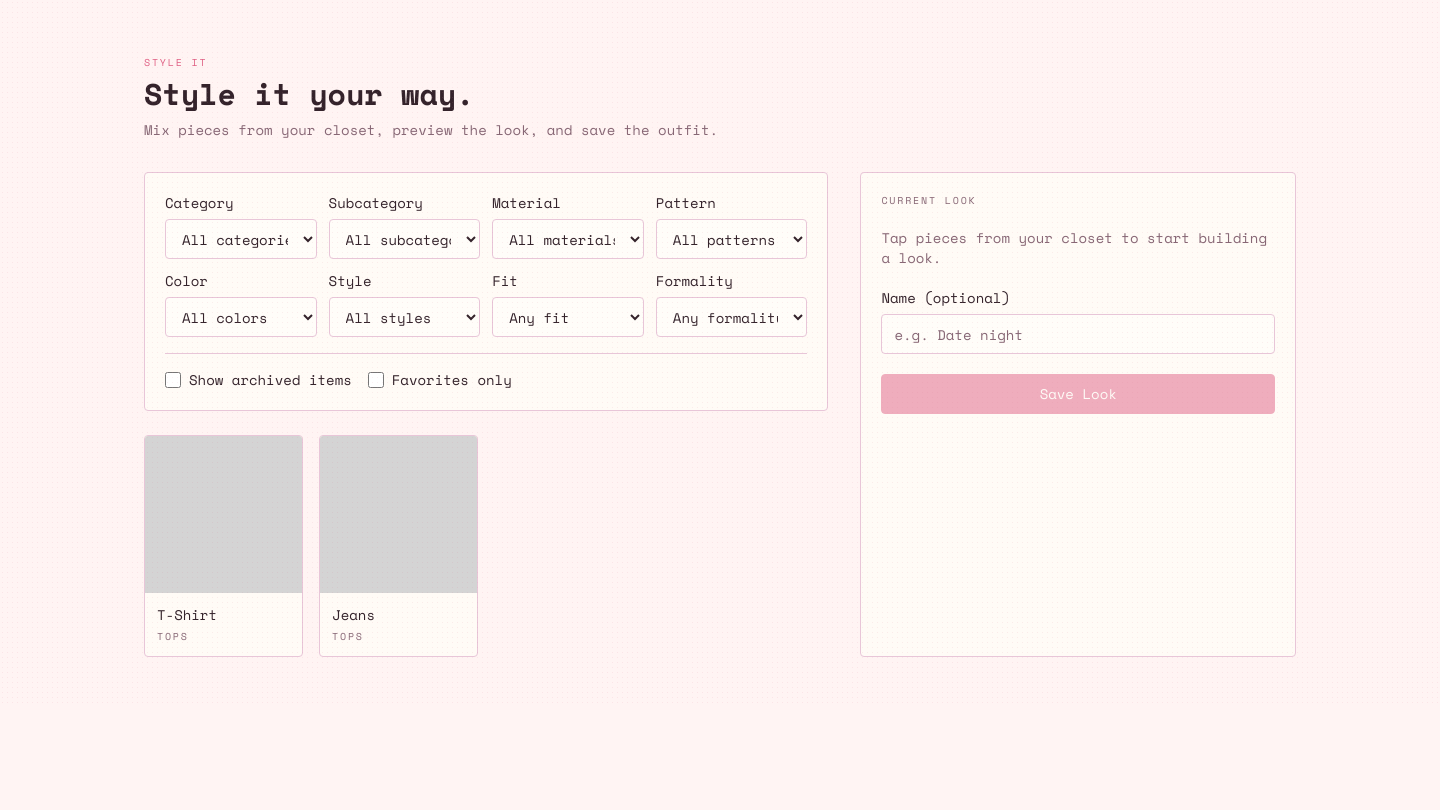
StyleItPage › selects two items, fetches the live preview, and saves the look
Click the button "T-Shirt Tops" at x=224, y=546, box [144,435,303,657]
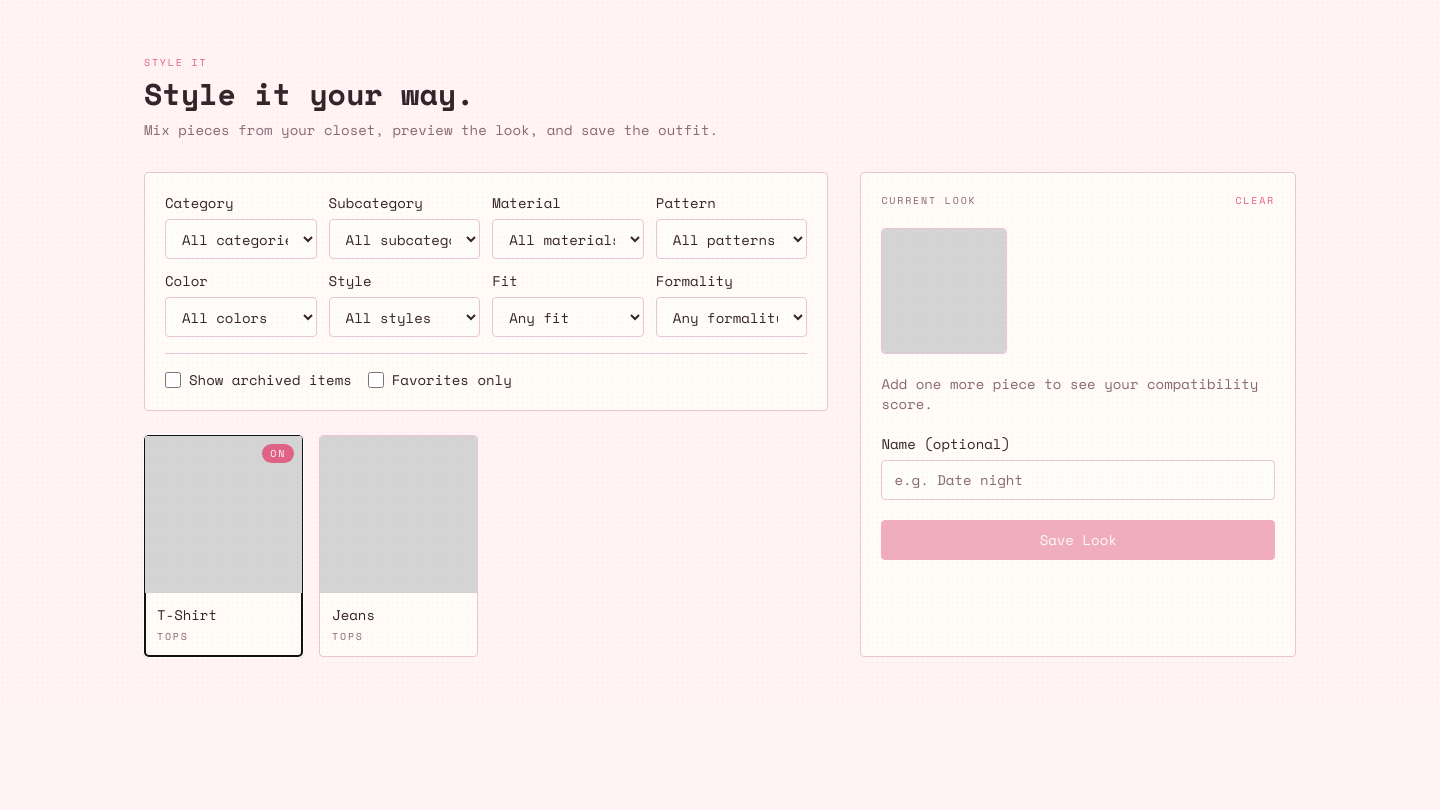
Click the button "Jeans Tops" at x=399, y=546, box [319,435,478,657]
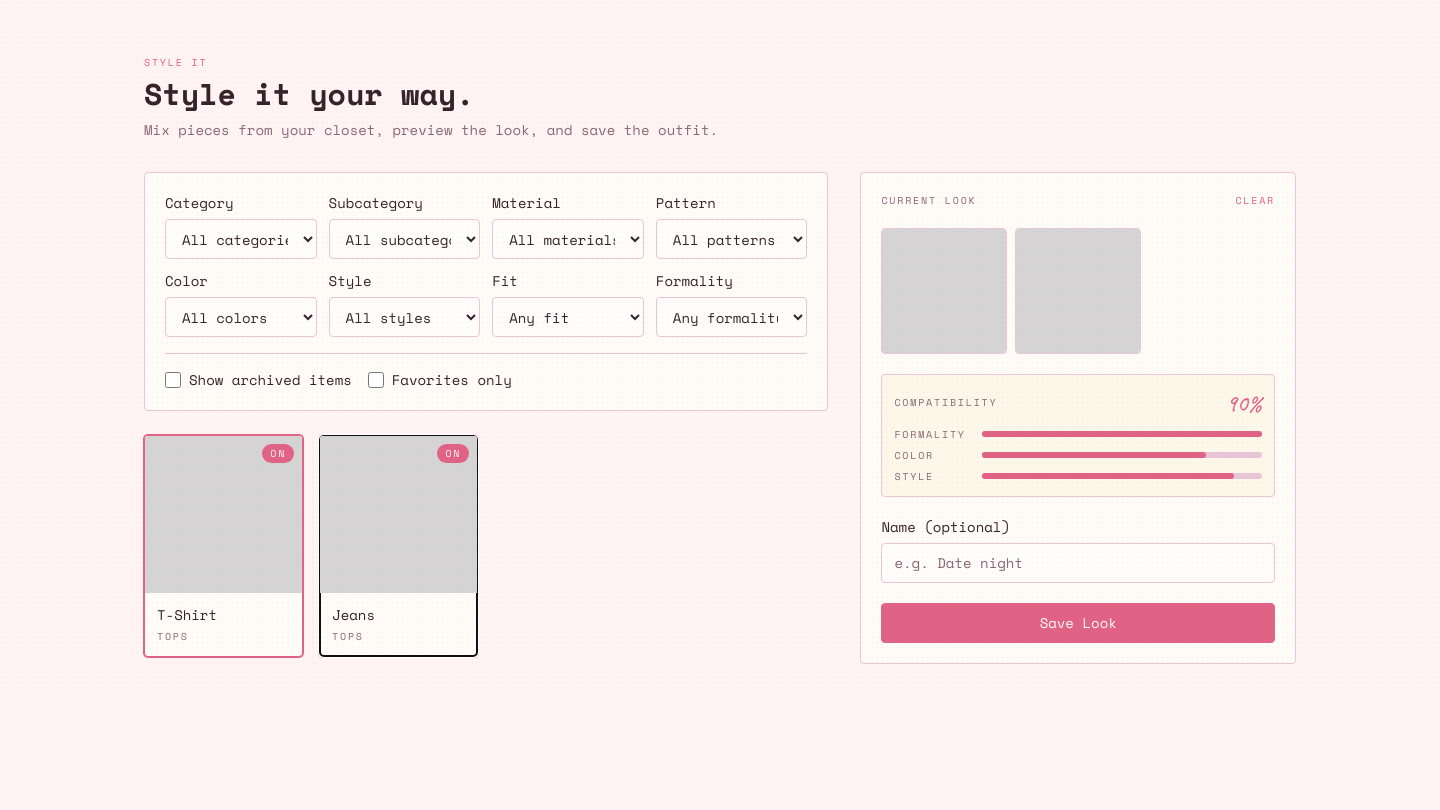
Check: the text "90%" is shown, box [1226,387,1262,419]
Check: the button "Save Look" is enabled
Click the button "Save Look" at x=1078, y=623, box [881,603,1275,643]
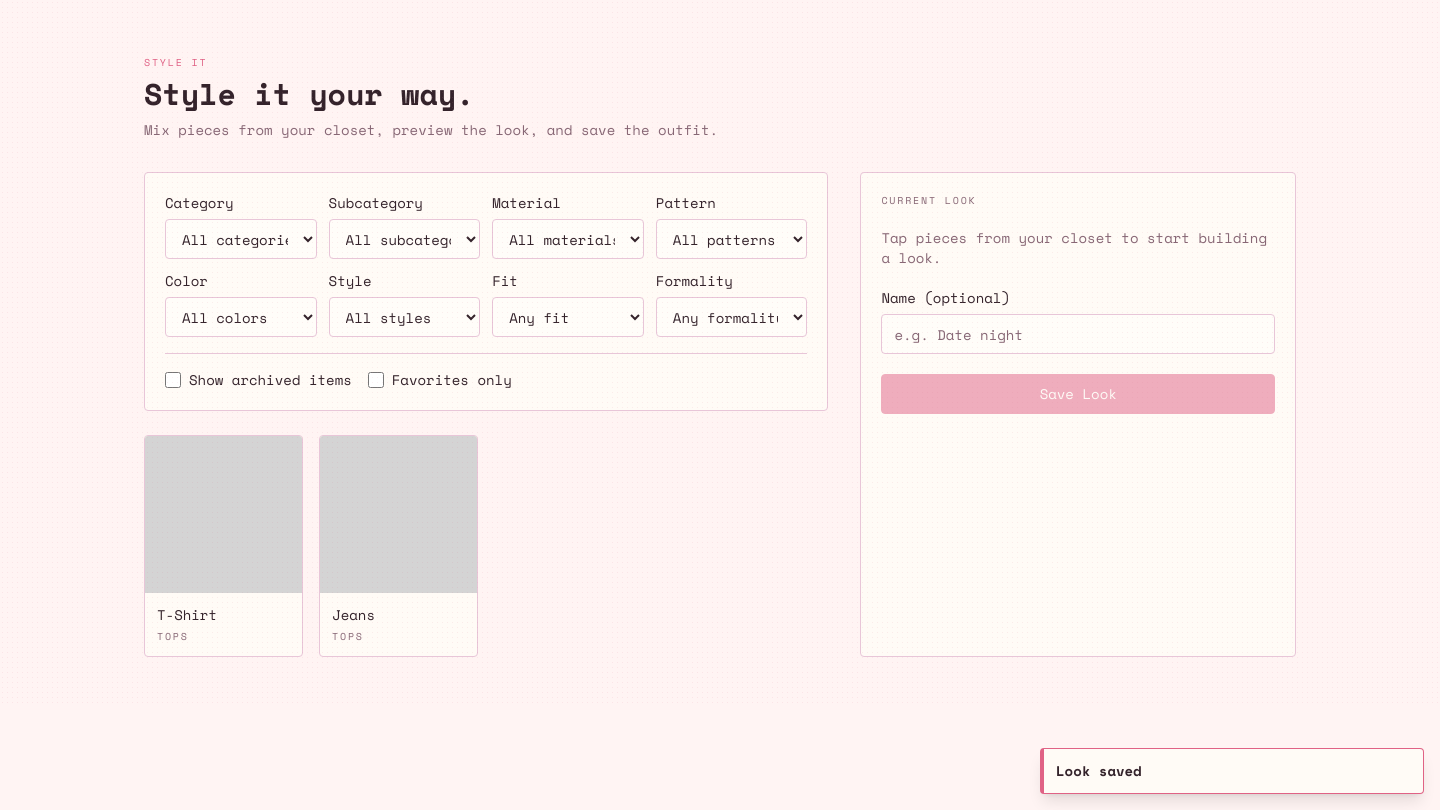
Check: the text "Look saved" is shown, box [1056,760,1142,781]
Check: the text "Tap pieces from your closet to start building a look." is shown, box [881,228,1275,268]
